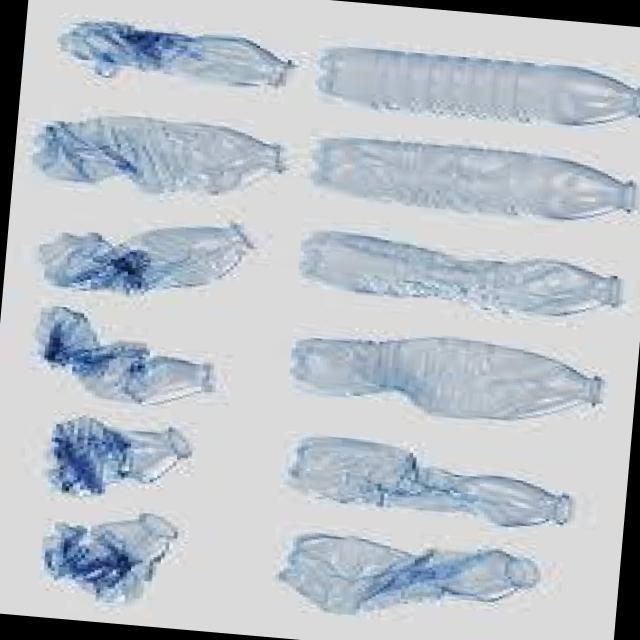defected: (278, 320, 616, 434), (284, 222, 632, 332), (264, 424, 587, 538), (299, 126, 640, 230), (252, 520, 560, 634), (17, 97, 294, 214), (31, 198, 268, 310), (20, 303, 242, 417), (54, 10, 298, 101), (27, 499, 200, 607), (35, 399, 212, 504)
good: (309, 34, 640, 142)
